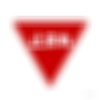Regulatory_sign_triangle: (12, 14, 89, 90)
